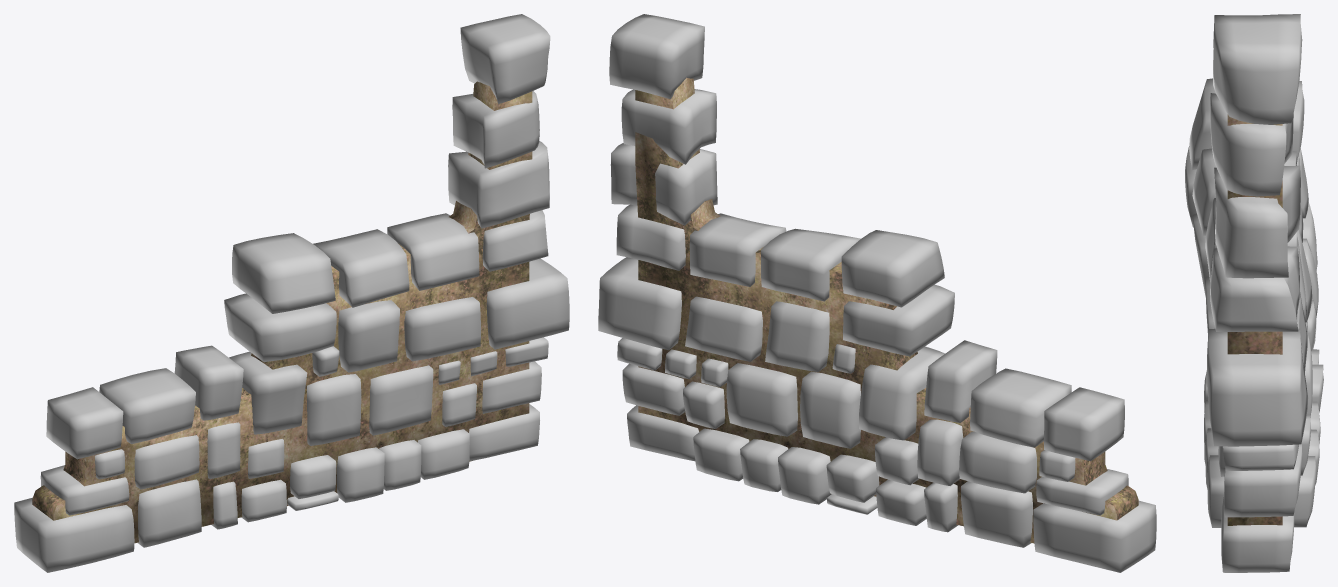
File: RuinsWall_B.fbx
The picture shows the model from 3 angles, left to right: view 1: azimuth 30°, elevation 25°; view 2: azimuth 150°, elevation 25°; view 3: azimuth 270°, elevation 25°; orthographic projection. The views are drawn at different scales.
Parts seen in each view (by area): view 1: RuinsWall_B; view 2: RuinsWall_B; view 3: RuinsWall_B.
Boxes of the visible parts, bbox=[...] form: RuinsWall_B: bbox=[14, 14, 569, 572]; RuinsWall_B: bbox=[598, 14, 1156, 572]; RuinsWall_B: bbox=[1185, 14, 1323, 572].
Size of the model in its own units: 235 by 177 by 41.51.
